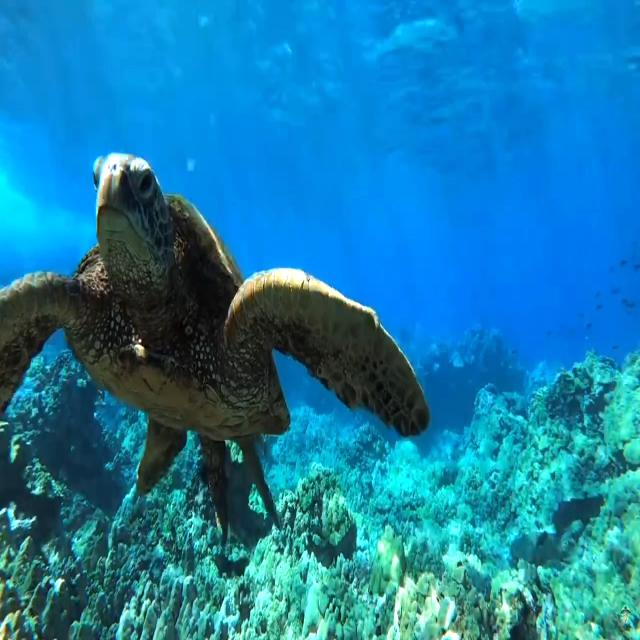Sea turtle: (0, 146, 432, 530)
